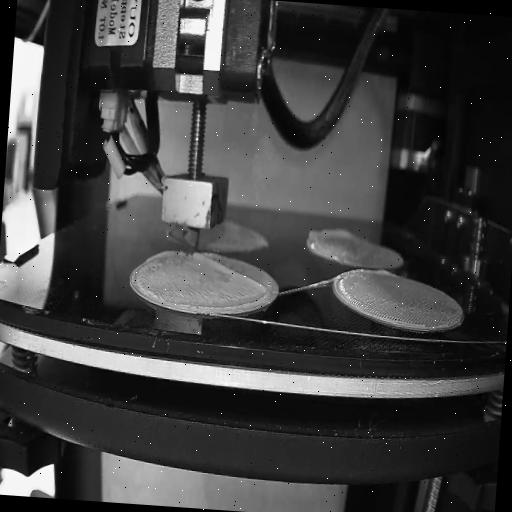over_extrusion: (194, 252, 268, 294), (306, 224, 357, 246), (146, 245, 182, 268), (374, 264, 396, 278)
